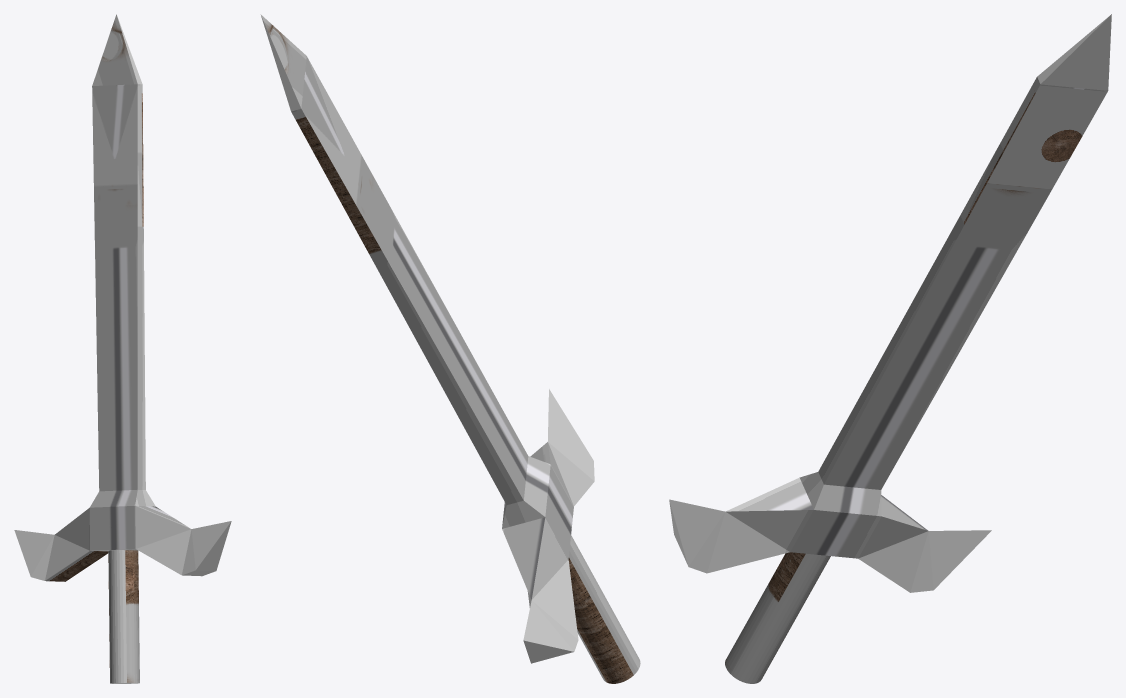
The model's file is Protagonista114.obj.
3 views of the same model, side by side, from view 1: azimuth 30°, elevation 25°; view 2: azimuth 150°, elevation 25°; view 3: azimuth 270°, elevation 25° (orthographic). The views are drawn at different scales.
Parts seen in each view (by area): view 1: Cube; view 2: Cube; view 3: Cube.
Part boxes in pixels (left/top/right/bottom): Cube: left=14, top=14, right=231, bottom=683; Cube: left=260, top=14, right=640, bottom=683; Cube: left=669, top=14, right=1111, bottom=683.
Bounding box in the file's own units: 0.4708 × 1.57 × 0.8441.
Materials: 1 (1 with a texture image).
